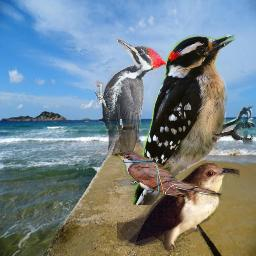Cuckoo: (117, 162, 240, 252), (111, 148, 224, 203)
Woodpecker: (133, 34, 255, 205), (95, 37, 166, 155)
